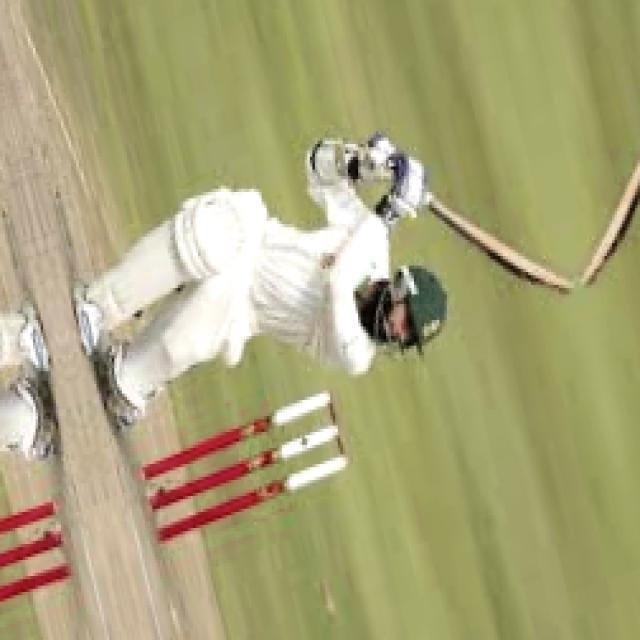bat: (416, 194, 577, 294)
